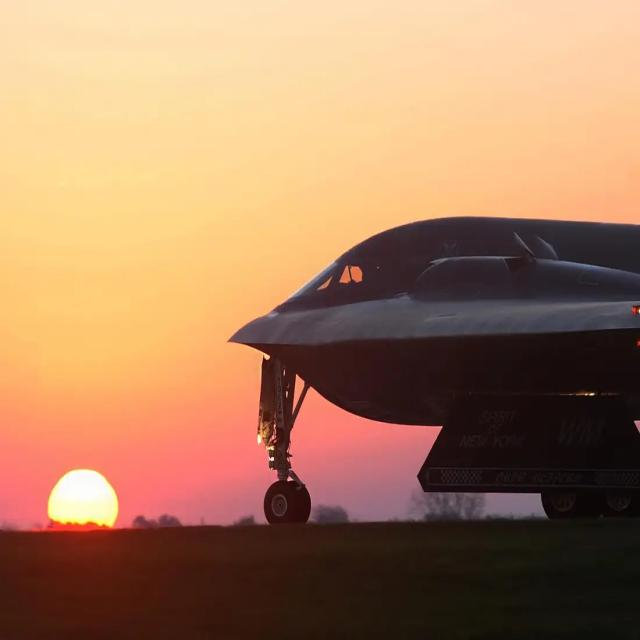MIL_Plane: (226, 216, 640, 523)
